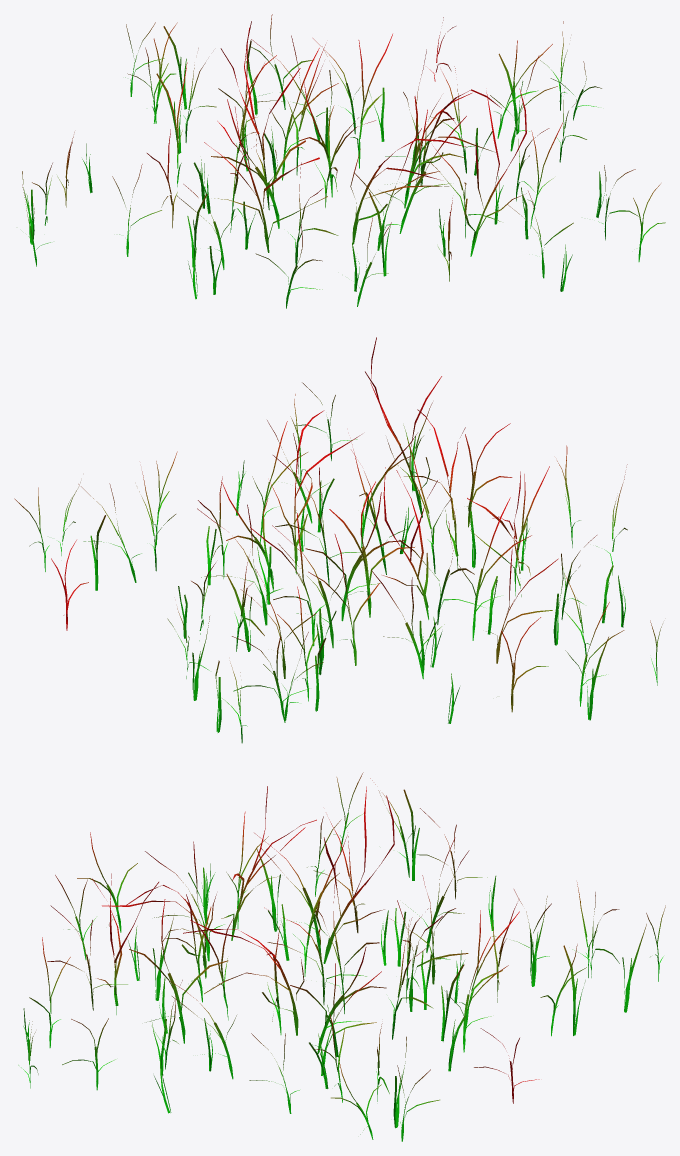
Rendered from Kikuyu Grass_LOD3_Var9_wiljearqx.fbx.
The picture shows the model from 3 angles, top to bottom: view 1: azimuth 30°, elevation 25°; view 2: azimuth 150°, elevation 25°; view 3: azimuth 270°, elevation 25°; orthographic projection. The views are drawn at different scales.
Parts seen in each view (by area): view 1: _016o_Var9_LOD3; view 2: _016o_Var9_LOD3; view 3: _016o_Var9_LOD3.
Part boxes in pixels (x1=…): _016o_Var9_LOD3: x1=22, y1=14, x2=665, y2=308; _016o_Var9_LOD3: x1=14, y1=337, x2=662, y2=743; _016o_Var9_LOD3: x1=18, y1=772, x2=665, y2=1141.
Bounding box in the file's own units: 91.31 × 27.21 × 83.17.
